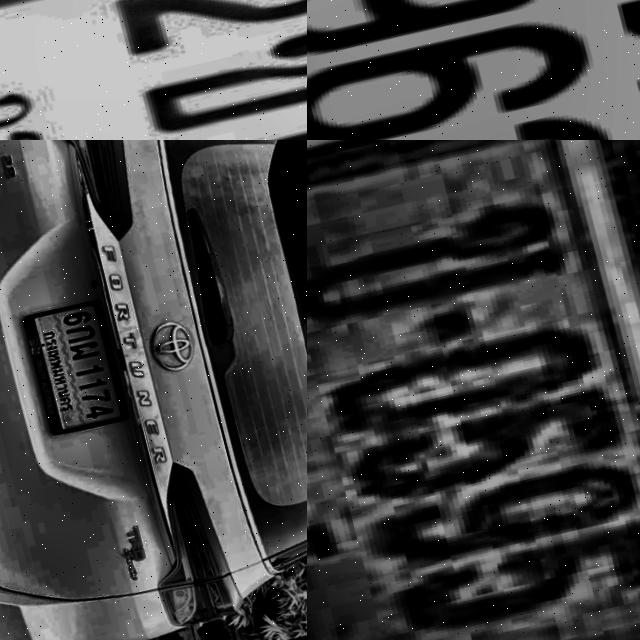license-plate: (307, 140, 640, 640), (307, 0, 640, 140), (0, 0, 307, 140), (15, 289, 138, 440)
